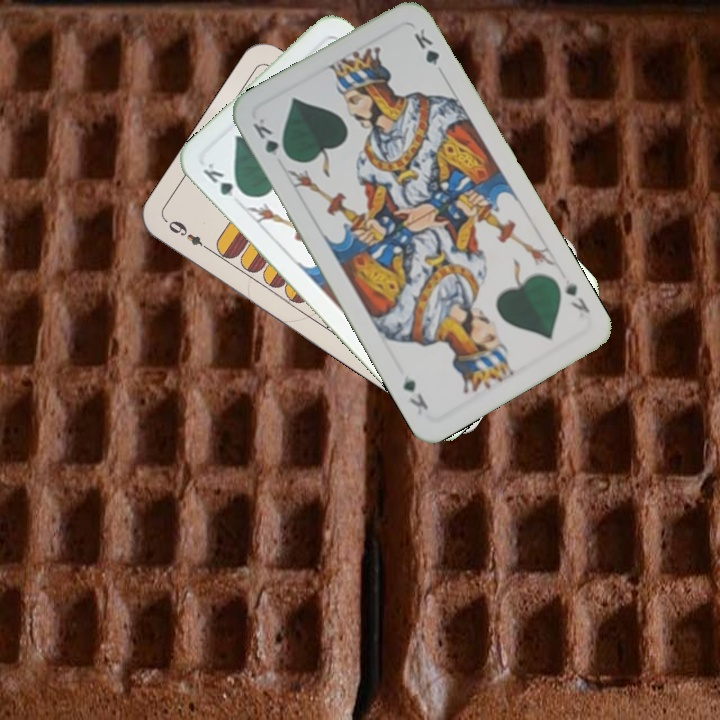E9: (162, 216, 214, 255)
GK: (248, 114, 292, 163), (198, 159, 250, 200), (561, 278, 593, 316)
